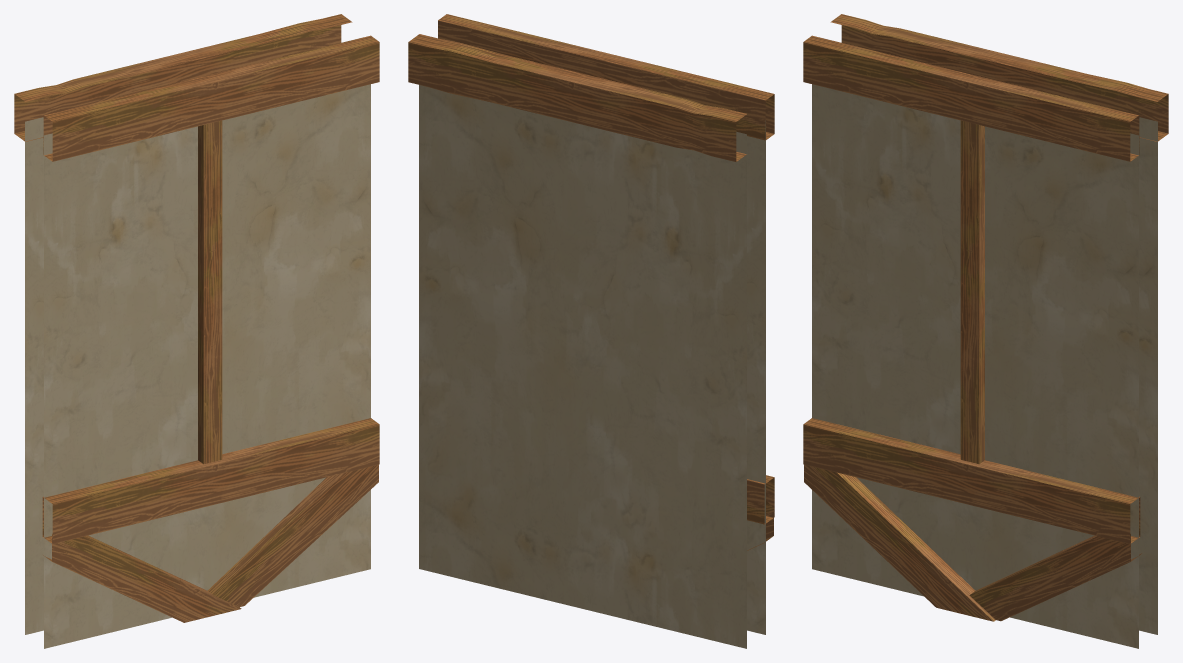
File: cottage-wall-plain.glb
The picture shows the model from 3 angles, left to right: view 1: azimuth 30°, elevation 25°; view 2: azimuth 150°, elevation 25°; view 3: azimuth 330°, elevation 25°; orthographic projection.
Visible parts, largest first — view 1: Wall_Plaster_Straight; view 2: Wall_Plaster_Straight; view 3: Wall_Plaster_Straight.
Boxes of the visible parts, bbox=[...] form: Wall_Plaster_Straight: bbox=[14, 14, 379, 648]; Wall_Plaster_Straight: bbox=[408, 14, 774, 648]; Wall_Plaster_Straight: bbox=[803, 14, 1168, 648].
Bounding box in the file's own units: 2 × 3.12 × 0.4065.
Materials: 2 (2 with a texture image).
